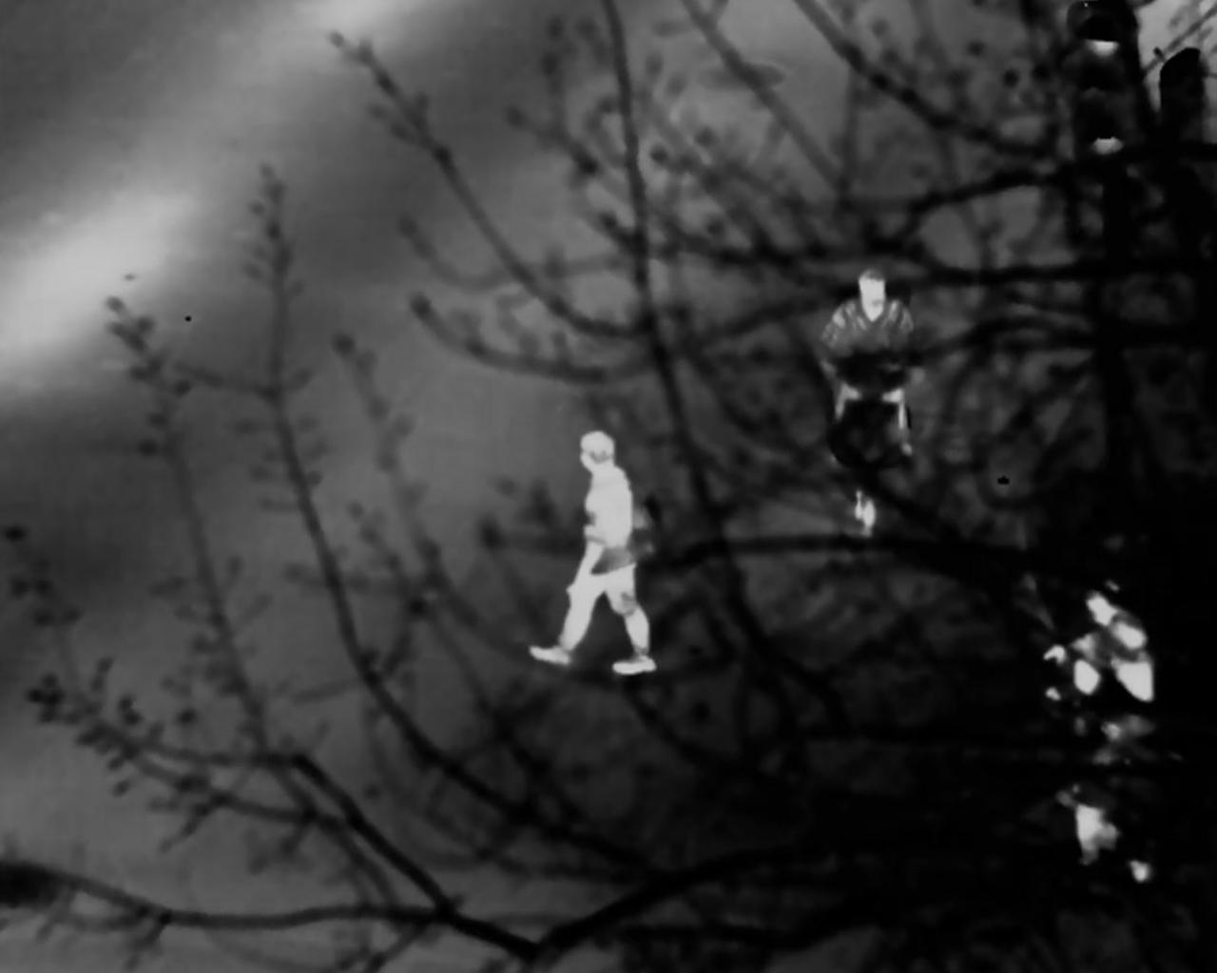person: (533, 429, 655, 673), (832, 259, 923, 547), (1055, 566, 1161, 792)
